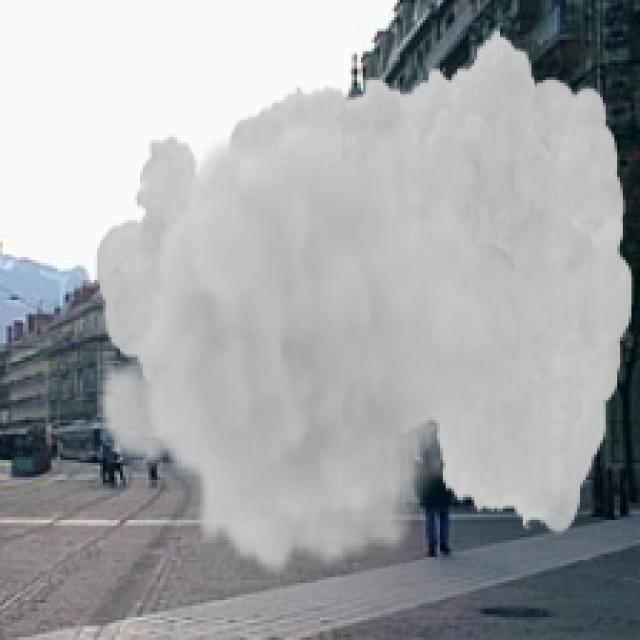Smoke: (95, 25, 634, 578)
